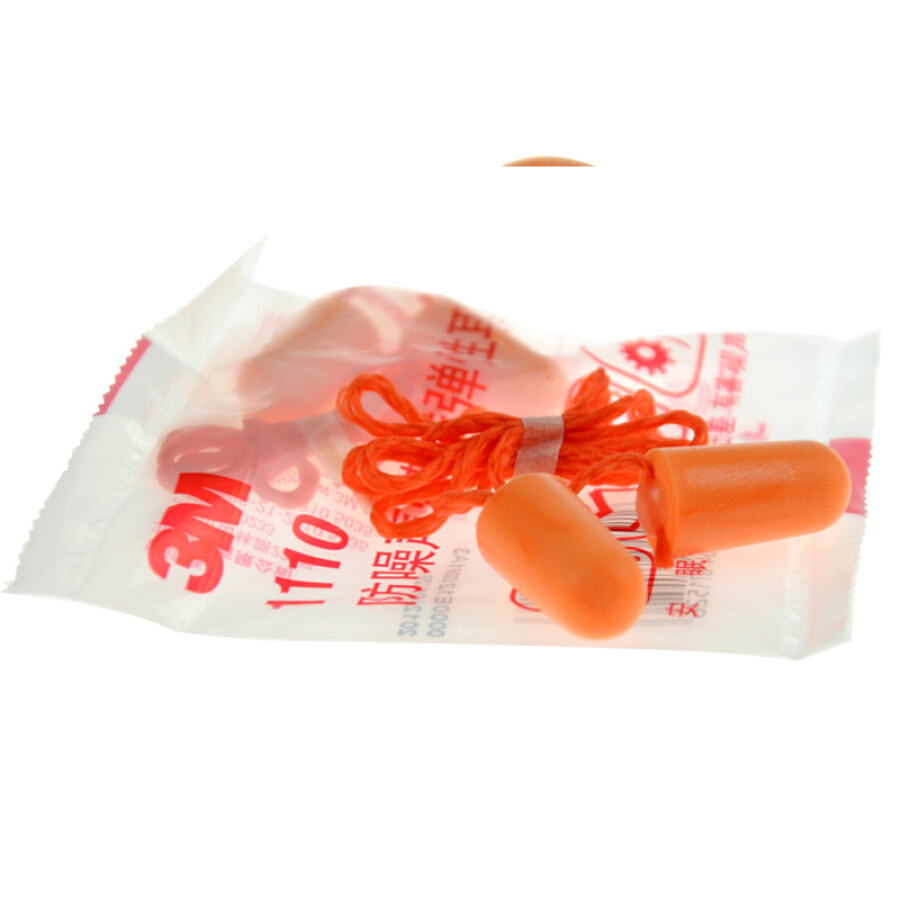3M: (144, 459, 256, 609)
